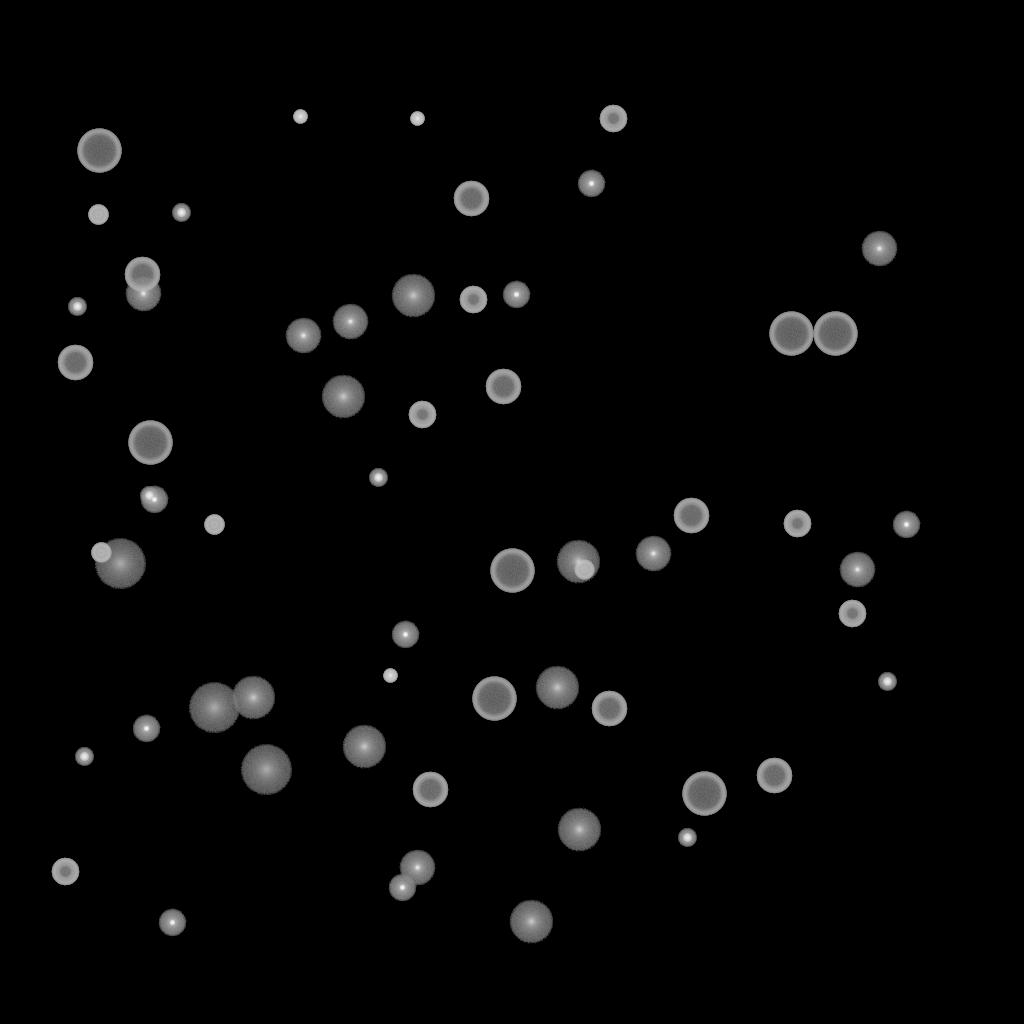depth:-10: (577, 170, 605, 198), (502, 281, 530, 309), (158, 909, 186, 937), (391, 621, 419, 649), (132, 715, 160, 743), (140, 486, 168, 514), (388, 874, 416, 902), (892, 511, 920, 539)
depth:-20: (678, 829, 696, 847), (140, 487, 158, 505), (68, 298, 86, 316), (369, 469, 387, 487), (75, 748, 93, 766), (172, 204, 190, 222), (878, 673, 896, 691)
depth:-30: (383, 669, 397, 683), (293, 110, 307, 124), (410, 112, 424, 126)
depth:-40: (88, 205, 108, 225), (574, 560, 594, 580), (91, 543, 111, 563), (204, 515, 224, 535)
depth:-50: (838, 600, 866, 628), (783, 510, 811, 538), (408, 401, 436, 429), (51, 858, 79, 886), (599, 105, 627, 133), (459, 286, 487, 314)
depth:-60: (485, 369, 521, 405), (124, 257, 160, 293), (756, 758, 792, 794), (591, 691, 627, 727), (412, 772, 448, 808), (57, 345, 93, 381), (673, 498, 709, 534), (453, 181, 489, 217)
depth:-70: (769, 312, 813, 356), (813, 312, 857, 356), (77, 129, 121, 173), (128, 421, 172, 465), (472, 677, 516, 721), (490, 549, 534, 593), (682, 772, 726, 816)
depth:0: (285, 318, 321, 354), (332, 304, 368, 340), (635, 536, 671, 572), (399, 850, 435, 886), (861, 231, 897, 267), (839, 552, 875, 588), (125, 276, 161, 312)
depth:10: (391, 274, 435, 318), (535, 666, 579, 710), (557, 808, 601, 852), (509, 900, 553, 944), (231, 676, 275, 720), (321, 375, 365, 419), (342, 725, 386, 769), (556, 540, 600, 584)
depth:20: (188, 683, 240, 733), (240, 745, 292, 795), (94, 539, 146, 589)
